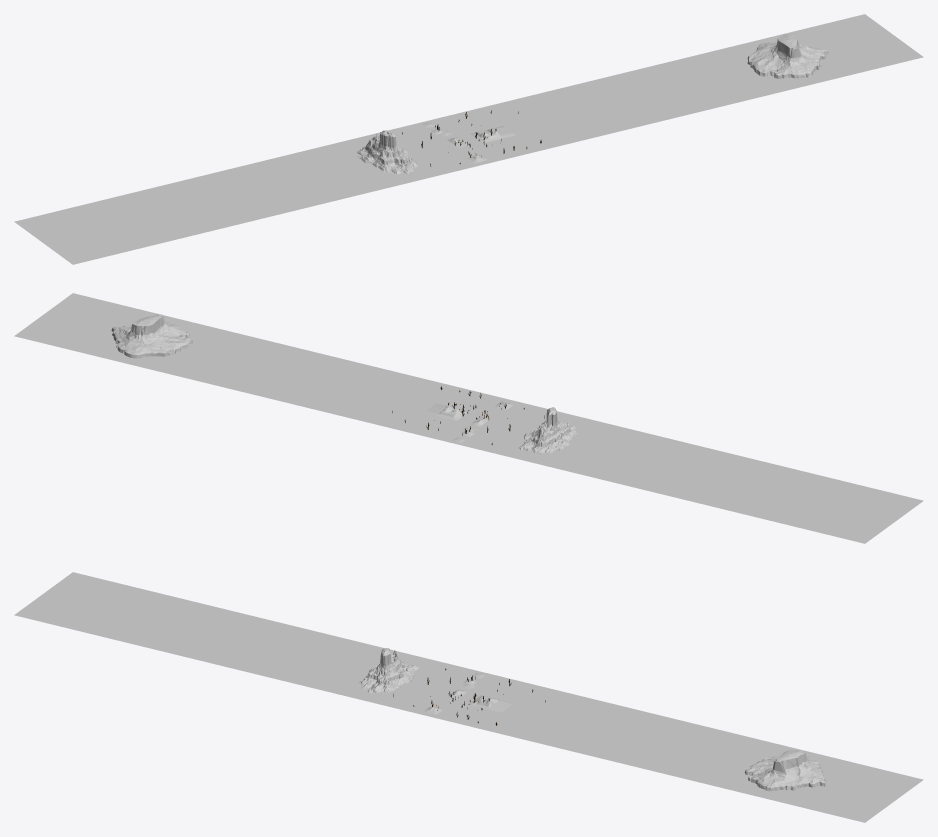
File: desert_chunk1.FBX
3 renders of one model, top to bottom at view 1: azimuth 30°, elevation 25°; view 2: azimuth 150°, elevation 25°; view 3: azimuth 330°, elevation 25°, orthographic.
Parts seen in each view (by area): view 1: grunt, Plane018, Plane017; view 2: grunt, Plane018, Plane017; view 3: grunt, Plane018, Plane017.
Part boxes in pixels (bbox=[...]): grunt: bbox=[14, 14, 923, 264]; Plane018: bbox=[747, 33, 829, 78]; Plane017: bbox=[357, 130, 417, 174]; grunt: bbox=[14, 293, 923, 543]; Plane018: bbox=[111, 314, 193, 358]; Plane017: bbox=[519, 407, 578, 454]; grunt: bbox=[14, 572, 923, 822]; Plane018: bbox=[744, 750, 826, 791]; Plane017: bbox=[359, 648, 418, 692].
Bounding box in the file's own units: 5000 × 600 × 162.
